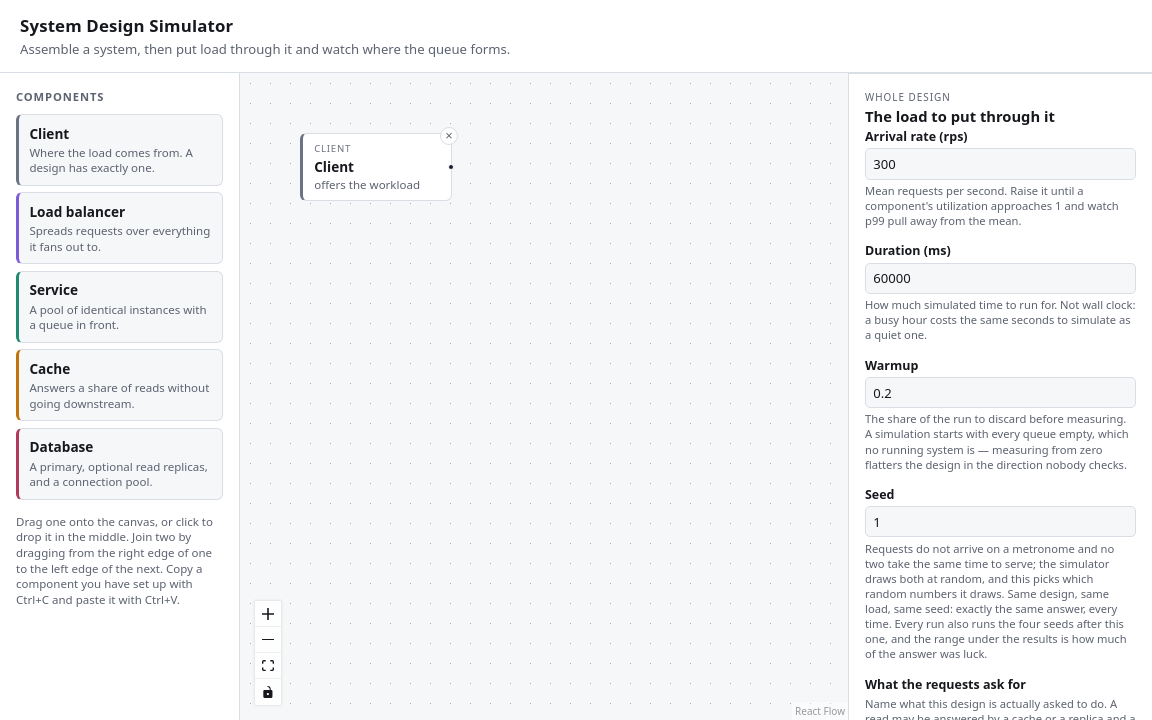
Test case: Home › brings up the settings of a component that is clicked
The image size is (1152, 720).
Click the element with class "react-flow__node": (376,167) [300,133,452,201]
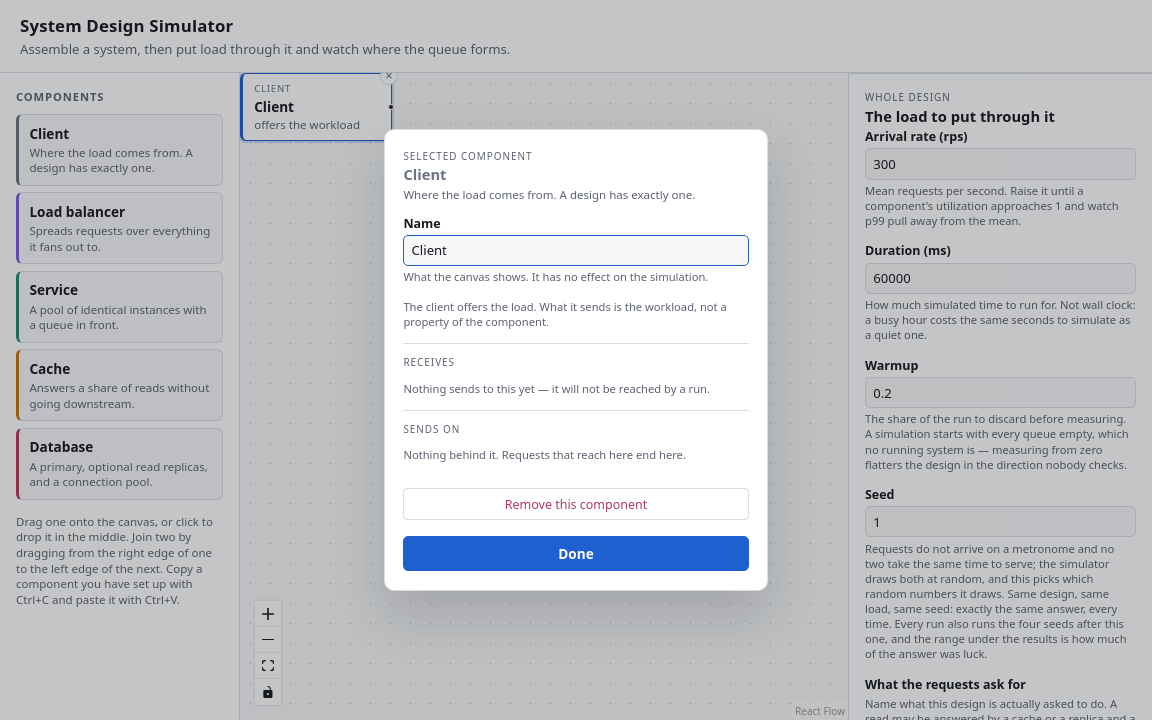
Expected: the heading "Client" is shown, [403,164,446,184]
